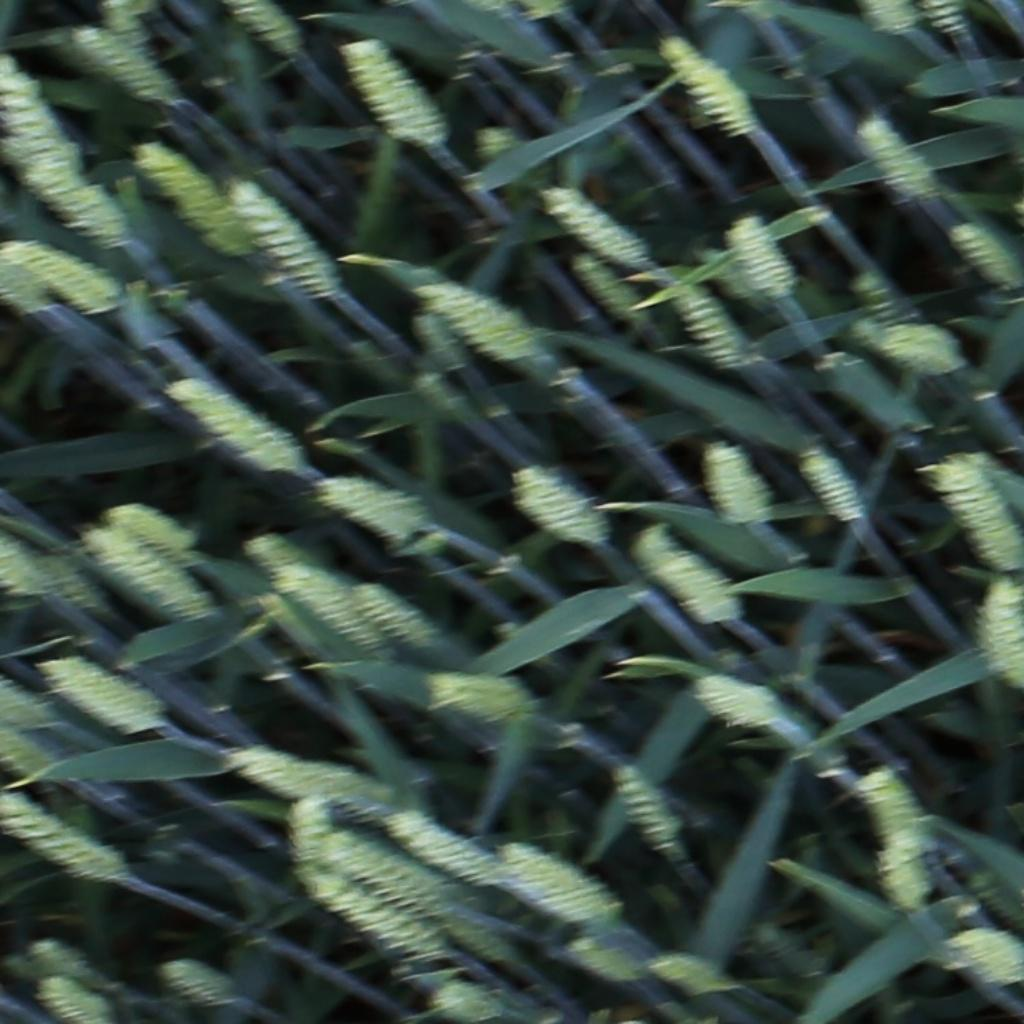0-0: (321, 833, 507, 961), (226, 172, 344, 301), (0, 130, 128, 248), (139, 138, 255, 265), (292, 865, 443, 961), (222, 746, 398, 828), (1, 788, 128, 891), (333, 35, 447, 148), (88, 524, 215, 615), (169, 380, 292, 473), (37, 655, 169, 735), (934, 448, 1021, 566), (388, 812, 517, 887), (541, 181, 652, 267), (0, 53, 82, 168), (1, 238, 121, 315), (664, 42, 757, 137), (277, 570, 379, 655), (72, 29, 173, 109), (498, 847, 610, 917), (513, 469, 610, 546), (856, 769, 937, 854), (669, 282, 745, 371), (320, 480, 421, 546), (634, 540, 729, 606), (105, 503, 204, 566), (0, 534, 86, 606), (857, 117, 936, 195), (608, 765, 675, 851), (423, 288, 524, 345), (432, 669, 526, 723), (727, 217, 791, 292), (977, 580, 1024, 681), (692, 679, 772, 735), (798, 449, 858, 521), (884, 322, 964, 376), (350, 588, 430, 640), (953, 223, 1022, 282), (879, 831, 927, 914), (705, 442, 753, 522), (0, 674, 59, 738), (225, 0, 299, 51), (570, 252, 633, 311), (0, 723, 62, 782), (288, 795, 338, 868), (963, 932, 1024, 987), (161, 960, 229, 1006), (248, 537, 313, 583), (39, 987, 107, 1021)
